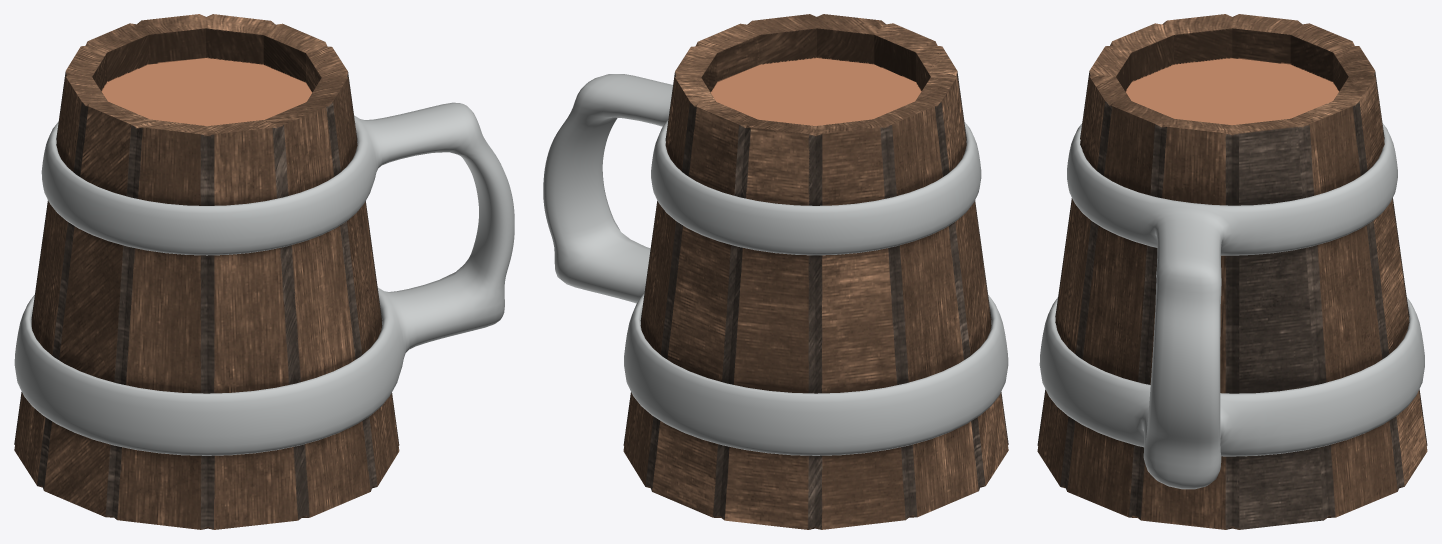
File: DohmMug.fbx
3 views of the same model, side by side, from view 1: azimuth 30°, elevation 25°; view 2: azimuth 150°, elevation 25°; view 3: azimuth 270°, elevation 25° (orthographic).
Parts seen in each view (by area): view 1: beer; view 2: beer; view 3: beer.
Part boxes in pixels (x1,y1,x2,y2): beer: (14, 14, 514, 529); beer: (543, 14, 1008, 529); beer: (1037, 14, 1427, 529).
Bounding box in the file's own units: 541 × 433 × 405.
